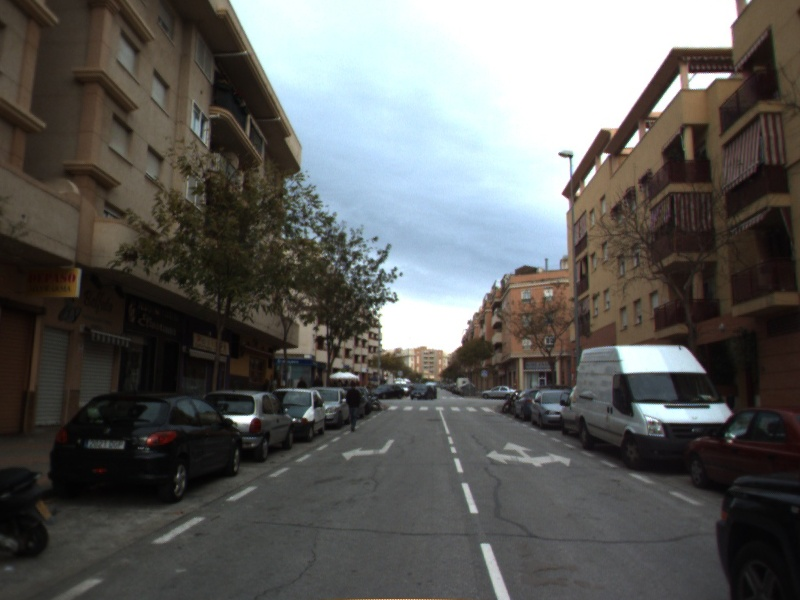STRAIGHT_LEFT_RIGHT: (484, 440, 573, 469)
